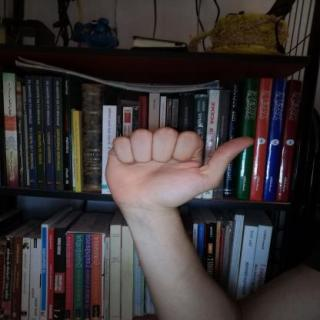DAD: (96, 122, 263, 218)
